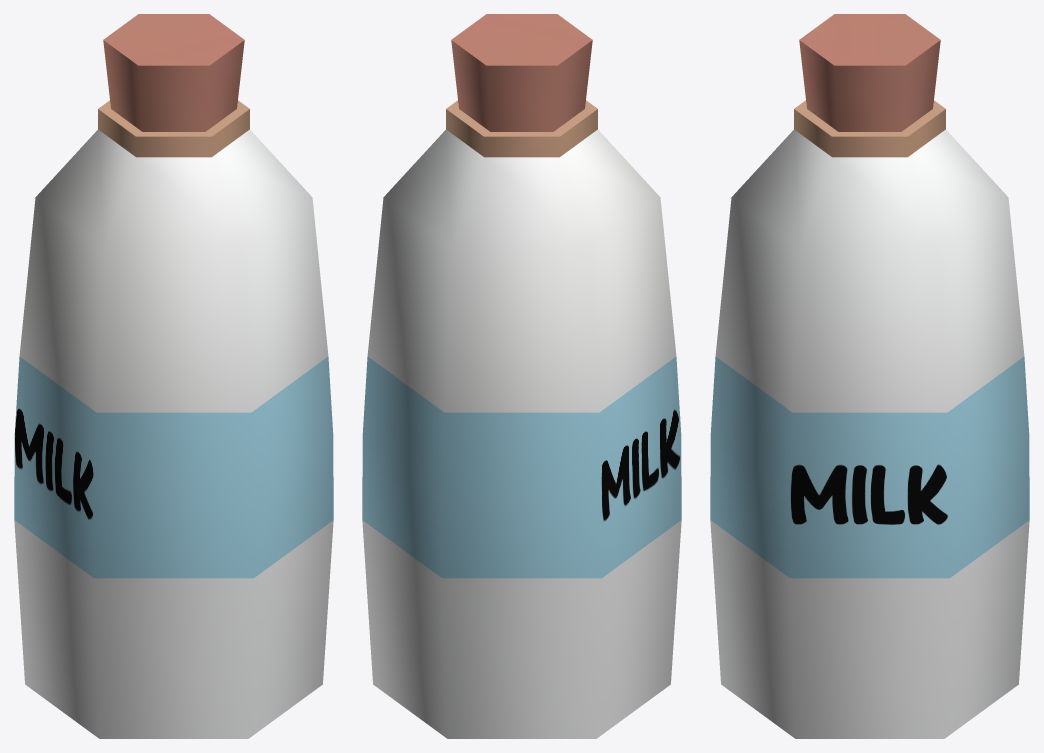
Rendered from MilkFull.fbx.
3 renders of one model, left to right at view 1: azimuth 30°, elevation 25°; view 2: azimuth 150°, elevation 25°; view 3: azimuth 270°, elevation 25°, orthographic.
Parts seen in each view (by area): view 1: MilkFull; view 2: MilkFull; view 3: MilkFull.
Boxes of the visible parts, <box> form: MilkFull: <box>14,14,333,738</box>; MilkFull: <box>362,14,681,738</box>; MilkFull: <box>710,14,1029,738</box>.
Size of the model in its own units: 186 by 478 by 214.
